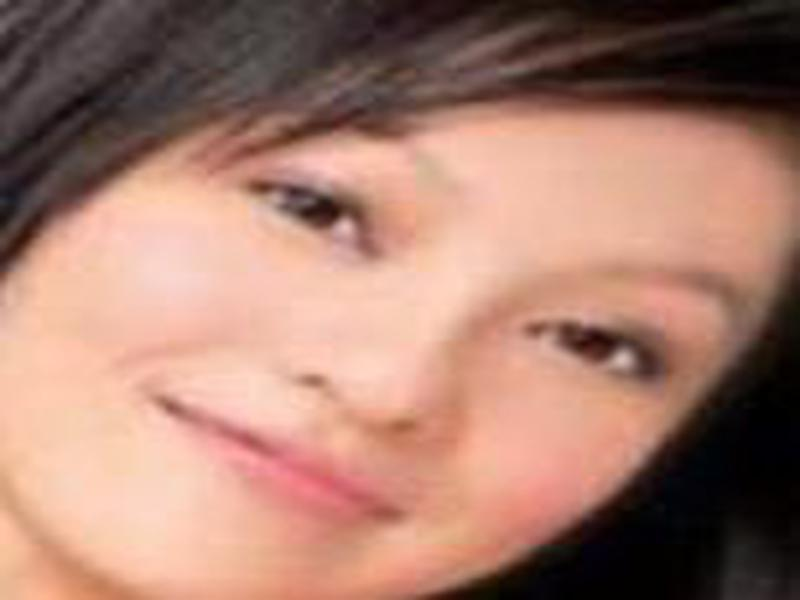without_mask: (12, 80, 761, 591)
